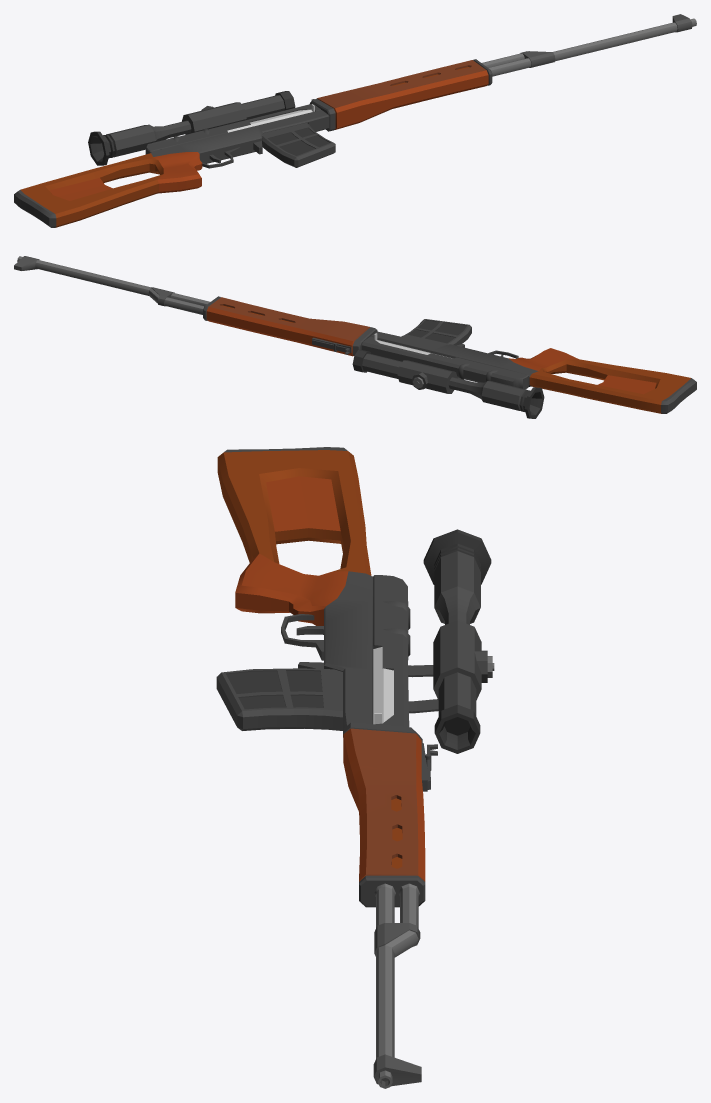
File: Eastern_sniper_rifle.fbx
3 views of the same model, one above another, from view 1: azimuth 30°, elevation 25°; view 2: azimuth 150°, elevation 25°; view 3: azimuth 270°, elevation 25° (orthographic). The views are drawn at different scales.
Parts seen in each view (by area): view 1: Eastern_sniper_rifle; view 2: Eastern_sniper_rifle; view 3: Eastern_sniper_rifle.
Boxes of the visible parts, bbox=[...] form: Eastern_sniper_rifle: bbox=[14, 14, 696, 227]; Eastern_sniper_rifle: bbox=[14, 256, 696, 418]; Eastern_sniper_rifle: bbox=[216, 447, 494, 1088].
Size of the model in its own units: 53.83 by 2.47 by 10.11.
